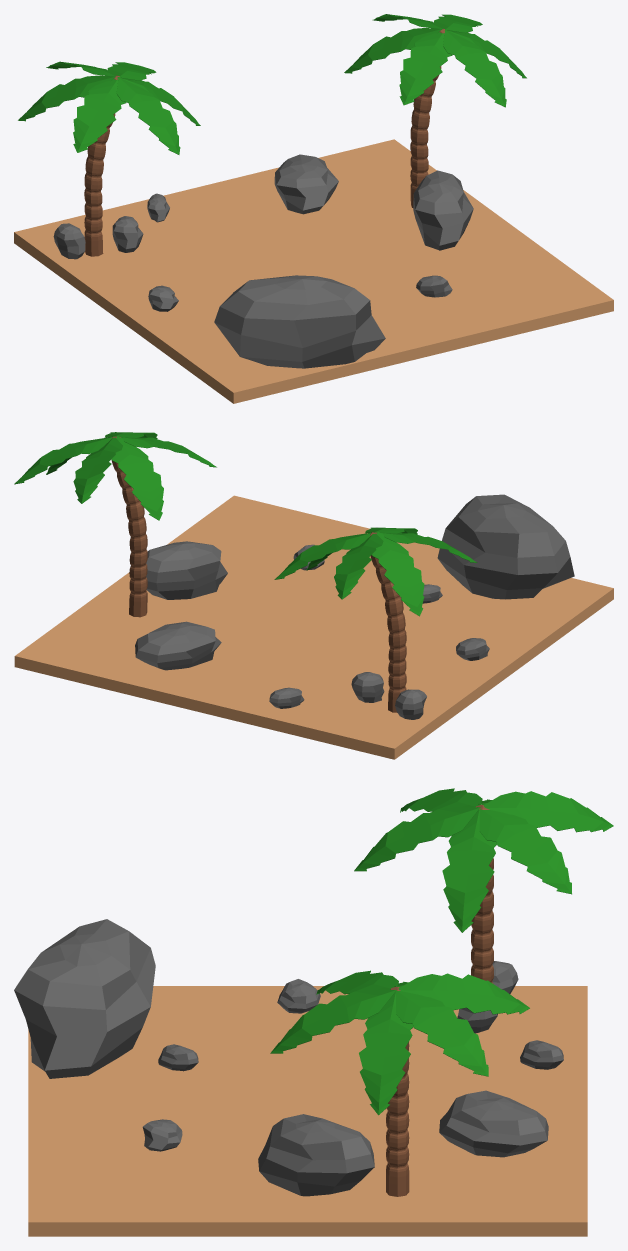
Rendered from praia.glb.
3 views of the same model, one above another, from view 1: azimuth 30°, elevation 25°; view 2: azimuth 150°, elevation 25°; view 3: azimuth 270°, elevation 25° (orthographic). The views are drawn at different scales.
Parts seen in each view (by area): view 1: Areia, Pedra3, Folhas, Folhas2, Pedra, Pedra1, BaseCoqueiro2, BaseCoqueiro, Pedra7, Pedra6, Pedra2, Pedra5; view 2: Areia, Pedra3, Folhas, Folhas2, Pedra, Pedra1, BaseCoqueiro, BaseCoqueiro2, Pedra6, Pedra7, Pedra5, Pedra8; view 3: Areia, Pedra3, Folhas, Folhas2, Pedra, Pedra1, BaseCoqueiro, BaseCoqueiro2, Pedra5, Pedra2, Pedra8, Pedra4 (+2 smaller).
Part boxes in pixels (left/top/right/bottom): Areia: left=14, top=139, right=613, bottom=403; Pedra3: left=214, top=275, right=385, bottom=368; Folhas: left=344, top=14, right=526, bottom=107; Folhas2: left=18, top=61, right=200, bottom=154; Pedra: left=413, top=170, right=473, bottom=250; Pedra1: left=274, top=154, right=338, bottom=214; BaseCoqueiro2: left=84, top=75, right=119, bottom=256; BaseCoqueiro: left=410, top=28, right=444, bottom=207; Pedra7: left=53, top=223, right=85, bottom=259; Pedra6: left=112, top=216, right=143, bottom=252; Pedra2: left=416, top=275, right=452, bottom=297; Pedra5: left=148, top=285, right=178, bottom=311; Areia: left=14, top=495, right=613, bottom=759; Pedra3: left=437, top=494, right=574, bottom=599; Folhas: left=14, top=432, right=216, bottom=520; Folhas2: left=274, top=527, right=477, bottom=616; Pedra: left=146, top=541, right=227, bottom=599; Pedra1: left=135, top=621, right=221, bottom=670; BaseCoqueiro: left=111, top=436, right=147, bottom=617; BaseCoqueiro2: left=370, top=532, right=406, bottom=712; Pedra6: left=351, top=672, right=384, bottom=702; Pedra7: left=395, top=689, right=426, bottom=719; Pedra5: left=456, top=638, right=489, bottom=660; Pedra8: left=269, top=687, right=304, bottom=708; Areia: left=28, top=986, right=587, bottom=1236; Pedra3: left=14, top=919, right=155, bottom=1078; Folhas: left=270, top=970, right=529, bottom=1115; Folhas2: left=354, top=788, right=613, bottom=932; Pedra: left=258, top=1114, right=374, bottom=1196; Pedra1: left=439, top=1090, right=548, bottom=1157; BaseCoqueiro: left=386, top=986, right=409, bottom=1196; BaseCoqueiro2: left=471, top=804, right=493, bottom=983; Pedra5: left=277, top=979, right=320, bottom=1013; Pedra2: left=142, top=1119, right=182, bottom=1151; Pedra8: left=520, top=1040, right=563, bottom=1069; Pedra4: left=158, top=1044, right=198, bottom=1071.
Size of the model in its own units: 6.97 by 2.77 by 6.44.
